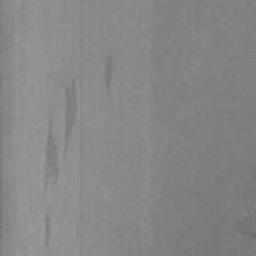Water spot: (42, 79, 78, 193), (234, 215, 256, 239), (104, 55, 114, 91), (44, 211, 51, 248)
